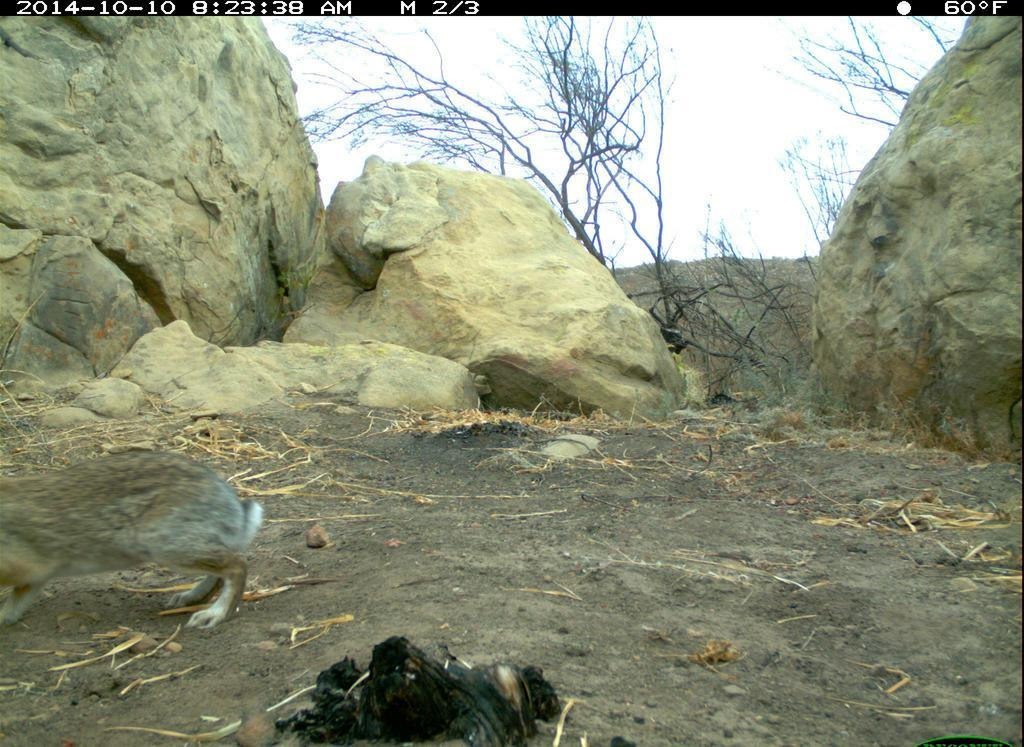rabbit: (1, 447, 272, 649)
